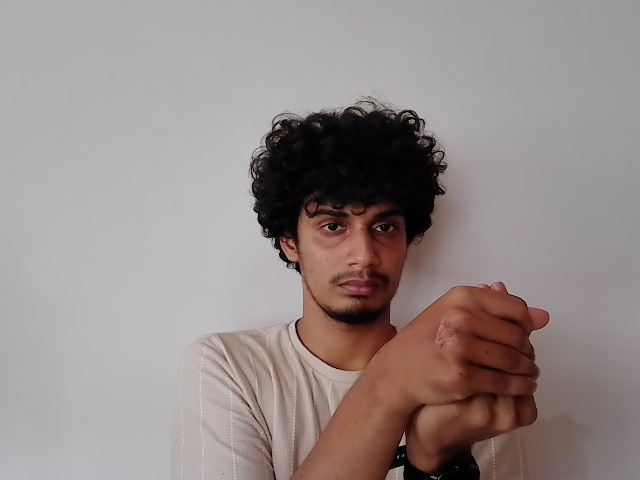with: (395, 276, 553, 439)
